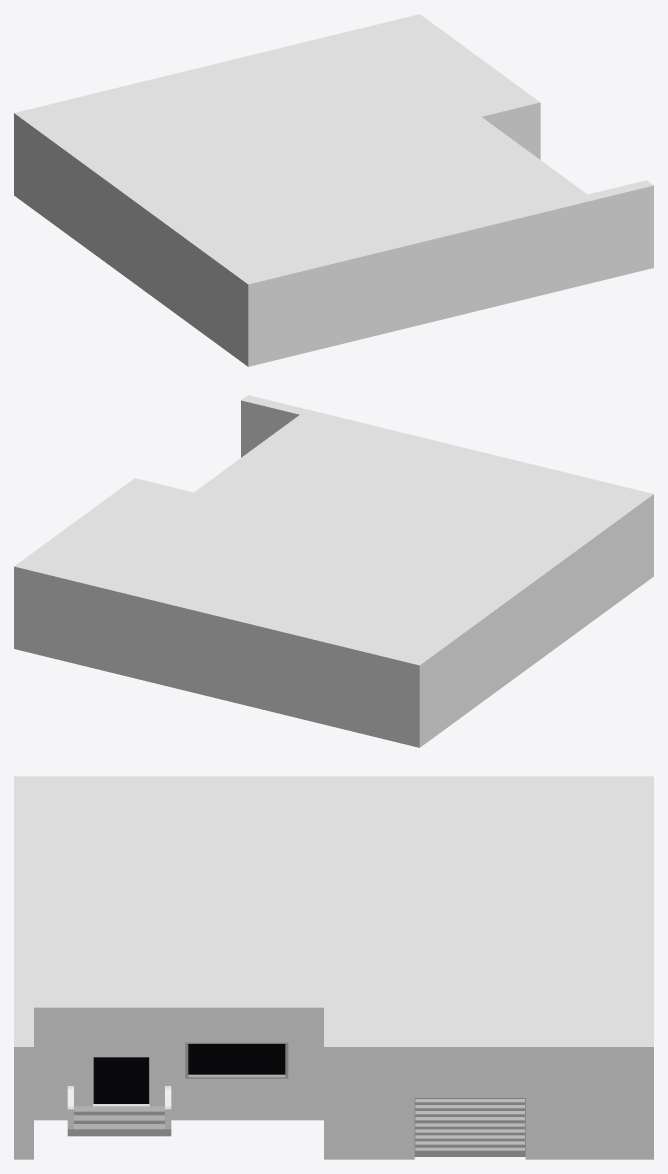
File: Planta Baja.fbx
3 renders of one model, top to bottom at view 1: azimuth 30°, elevation 25°; view 2: azimuth 150°, elevation 25°; view 3: azimuth 270°, elevation 25°, orthographic. The views are drawn at different scales.
Visible parts, largest first — view 1: building_021.002; view 2: building_021.002; view 3: building_021.002.
Part boxes in pixels (x1,y1,x2,y2): building_021.002: (14,14,653,366); building_021.002: (14,395,653,747); building_021.002: (14,776,653,1159).
Size of the model in its own units: 2000 by 388 by 2000.
Materials: 2 (2 with a texture image).
